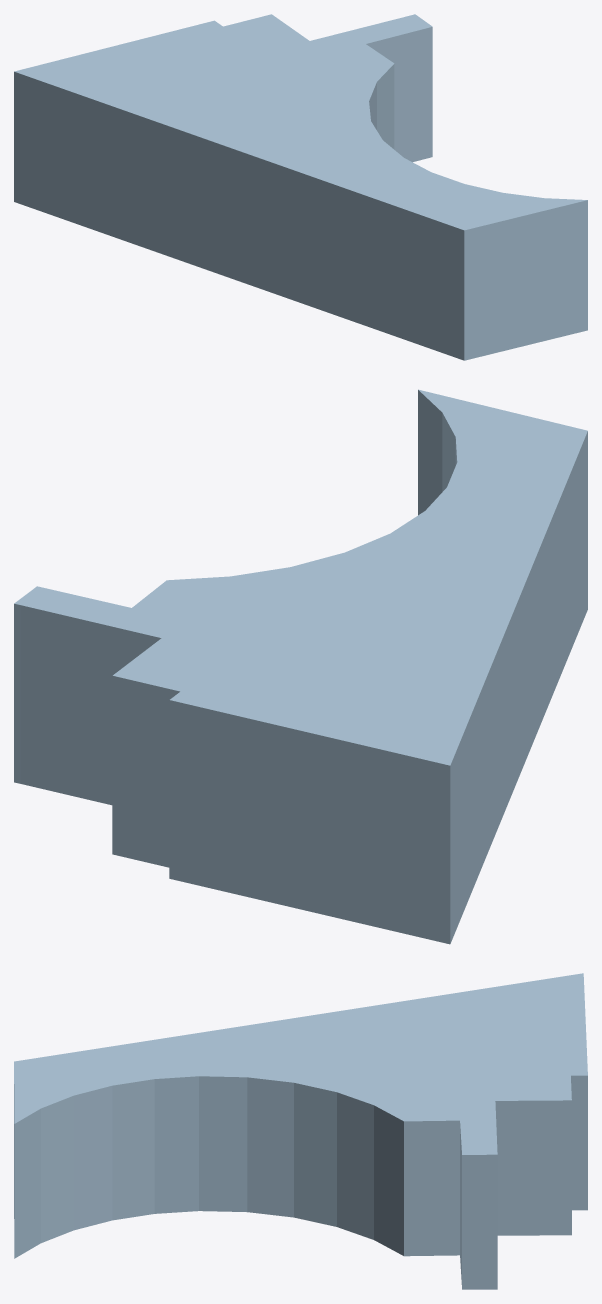
Rendered from osm_way_1390009974.glb.
3 renders of one model, top to bottom at view 1: azimuth 30°, elevation 25°; view 2: azimuth 150°, elevation 25°; view 3: azimuth 270°, elevation 25°, orthographic. The views are drawn at different scales.
Visible parts, largest first — view 1: osm_way_1390009974; view 2: osm_way_1390009974; view 3: osm_way_1390009974.
Boxes of the visible parts, bbox=[...] form: osm_way_1390009974: bbox=[14, 14, 587, 360]; osm_way_1390009974: bbox=[14, 389, 587, 944]; osm_way_1390009974: bbox=[14, 973, 587, 1289].
Bounding box in the file's own units: 36.42 × 12.6 × 48.62.
